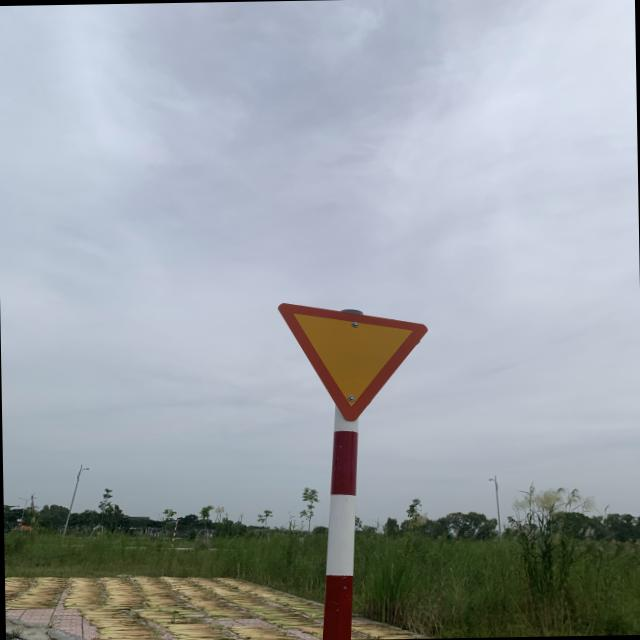Gioi_Han_Toc_Do_25: (278, 300, 430, 422)
